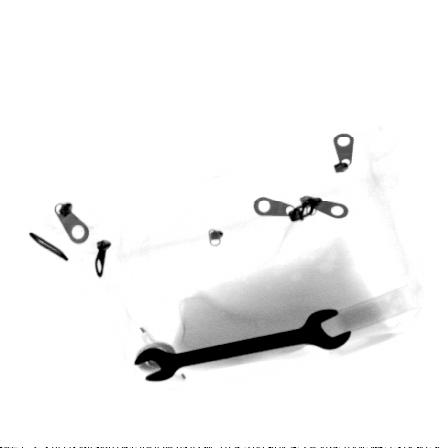Wrench: (134, 308, 352, 382)
